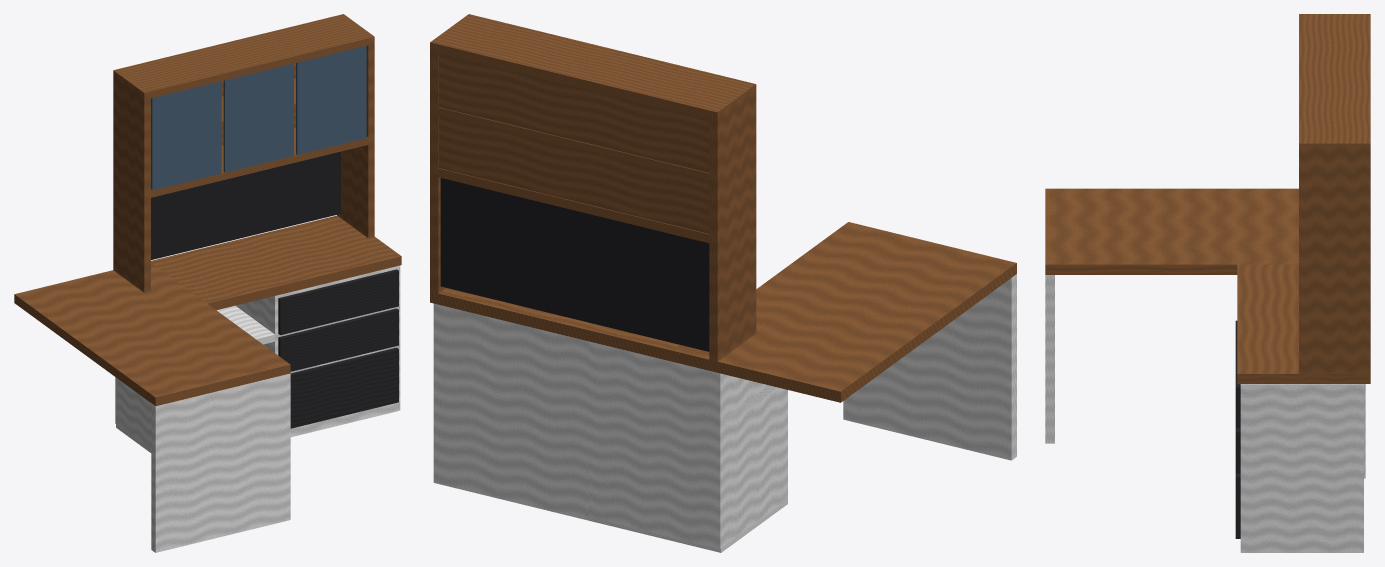
3 renders of one model, left to right at view 1: azimuth 30°, elevation 25°; view 2: azimuth 150°, elevation 25°; view 3: azimuth 270°, elevation 25°, orthographic. The views are drawn at different scales.
Visible parts, largest first — view 1: 3 left_end_panel, 1 left_desk_top, 2 right_desk_top, 12 pegboard, 15 hutch_top_panel, 13 hutch_left_panel, 21 cabinet_door_right, 19 cabinet_door_left, 20 cabinet_door_mid, 11 drawer_3, 9 drawer_1, 10 drawer_2 (+5 smaller); view 2: 1 left_desk_top, 18 cabinet_back_panel, 12 pegboard, 8 drawer_cabinet_body, 6 lower_shelf_back, 3 left_end_panel, 15 hutch_top_panel, 13 hutch_left_panel, 7 lower_shelf_left_panel, 2 right_desk_top, 16 cabinet_bottom_panel, 14 hutch_right_panel (+2 smaller); view 3: 1 left_desk_top, 8 drawer_cabinet_body, 14 hutch_right_panel, 15 hutch_top_panel, 2 right_desk_top, 3 left_end_panel, 9 drawer_1.
Boxes of the visible parts, <box> form: 3 left_end_panel: <box>151,373,290,552</box>; 1 left_desk_top: <box>14,262,290,406</box>; 2 right_desk_top: <box>151,215,401,310</box>; 12 pegboard: <box>151,151,340,259</box>; 15 hutch_top_panel: <box>113,14,374,99</box>; 13 hutch_left_panel: <box>113,71,150,292</box>; 21 cabinet_door_right: <box>296,46,366,154</box>; 19 cabinet_door_left: <box>151,81,221,190</box>; 20 cabinet_door_mid: <box>223,63,293,172</box>; 11 drawer_3: <box>290,347,398,428</box>; 9 drawer_1: <box>278,269,398,335</box>; 10 drawer_2: <box>278,308,398,371</box>; 1 left_desk_top: <box>672,222,1016,402</box>; 18 cabinet_back_panel: <box>438,53,709,233</box>; 12 pegboard: <box>440,178,709,351</box>; 8 drawer_cabinet_body: <box>433,303,589,520</box>; 6 lower_shelf_back: <box>589,341,723,548</box>; 3 left_end_panel: <box>843,274,1016,460</box>; 15 hutch_top_panel: <box>430,14,756,120</box>; 13 hutch_left_panel: <box>709,85,756,361</box>; 7 lower_shelf_left_panel: <box>721,374,787,548</box>; 2 right_desk_top: <box>430,288,679,361</box>; 16 cabinet_bottom_panel: <box>438,168,709,243</box>; 14 hutch_right_panel: <box>430,43,445,293</box>; 1 left_desk_top: <box>1045,188,1298,274</box>; 8 drawer_cabinet_body: <box>1240,384,1363,552</box>; 14 hutch_right_panel: <box>1299,144,1370,373</box>; 15 hutch_top_panel: <box>1299,14,1370,151</box>; 2 right_desk_top: <box>1237,264,1370,383</box>; 3 left_end_panel: <box>1045,275,1054,443</box>; 9 drawer_1: <box>1235,320,1240,428</box>.
Size of the model in its own units: 0.97 by 1 by 0.72.
Materials: 5 (3 with a texture image).
